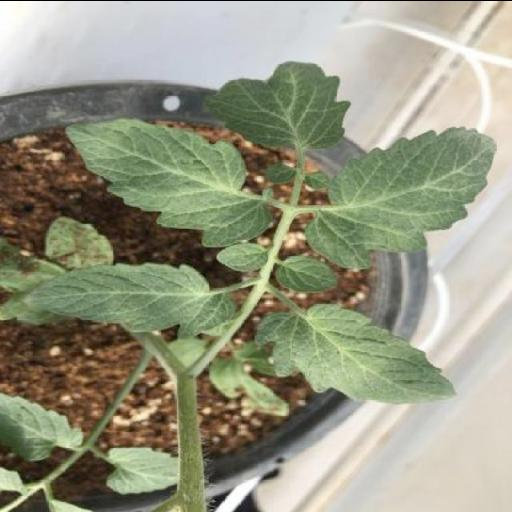Healthy: (304, 125, 496, 268), (66, 118, 272, 246), (254, 302, 456, 404), (24, 263, 236, 339), (204, 59, 350, 148)
